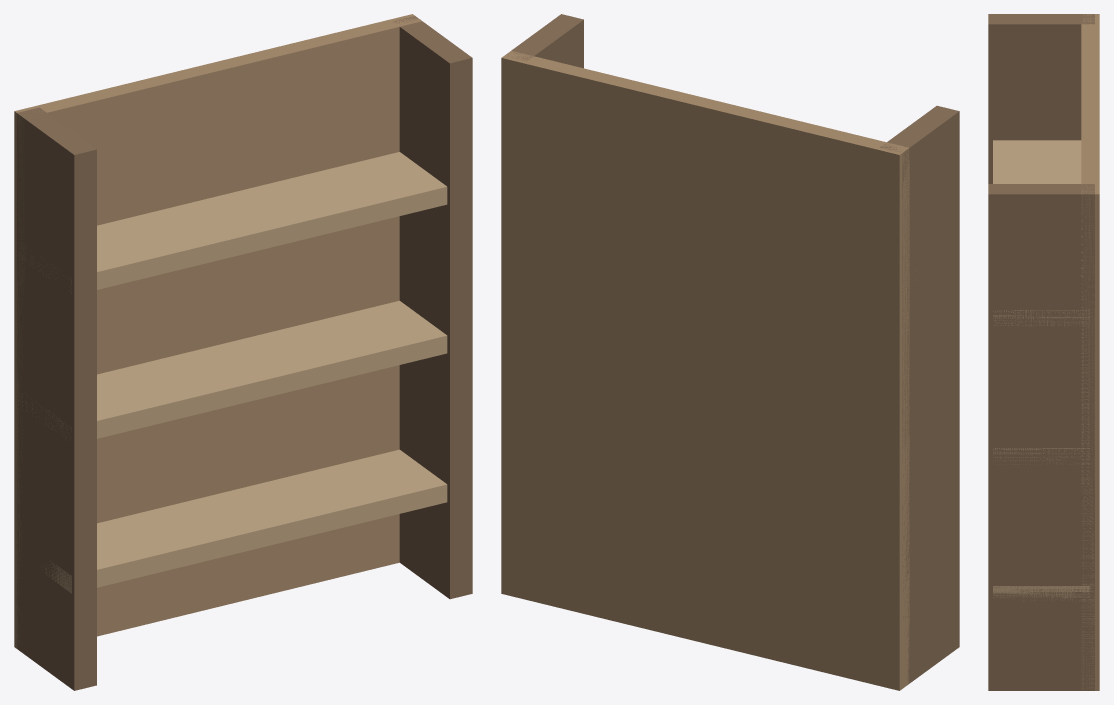
The model's file is shop_shelf.glb.
3 renders of one model, left to right at view 1: azimuth 30°, elevation 25°; view 2: azimuth 150°, elevation 25°; view 3: azimuth 270°, elevation 25°, orthographic. The views are drawn at different scales.
Visible parts, largest first — view 1: shop_shelf_05, shop_shelf_00, shop_shelf_01, shop_shelf_02, shop_shelf_03, shop_shelf_04; view 2: shop_shelf_05, shop_shelf_00, shop_shelf_01; view 3: shop_shelf_01, shop_shelf_00, shop_shelf_05, shop_shelf_04, shop_shelf_02, shop_shelf_03.
Part boxes in pixels (<box>): shop_shelf_05: <box>14,14,421,649</box>; shop_shelf_00: <box>17,107,96,690</box>; shop_shelf_01: <box>393,16,472,599</box>; shop_shelf_02: <box>42,449,447,593</box>; shop_shelf_03: <box>20,300,447,438</box>; shop_shelf_04: <box>19,152,447,293</box>; shop_shelf_05: <box>501,50,909,690</box>; shop_shelf_00: <box>880,105,959,684</box>; shop_shelf_01: <box>508,14,583,68</box>; shop_shelf_01: <box>988,184,1094,690</box>; shop_shelf_00: <box>988,14,1094,183</box>; shop_shelf_05: <box>1081,14,1099,690</box>; shop_shelf_04: <box>993,140,1089,326</box>; shop_shelf_02: <box>993,586,1090,601</box>; shop_shelf_03: <box>993,448,1090,464</box>.
Size of the model in its own units: 1.4 by 1.8 by 0.365.
